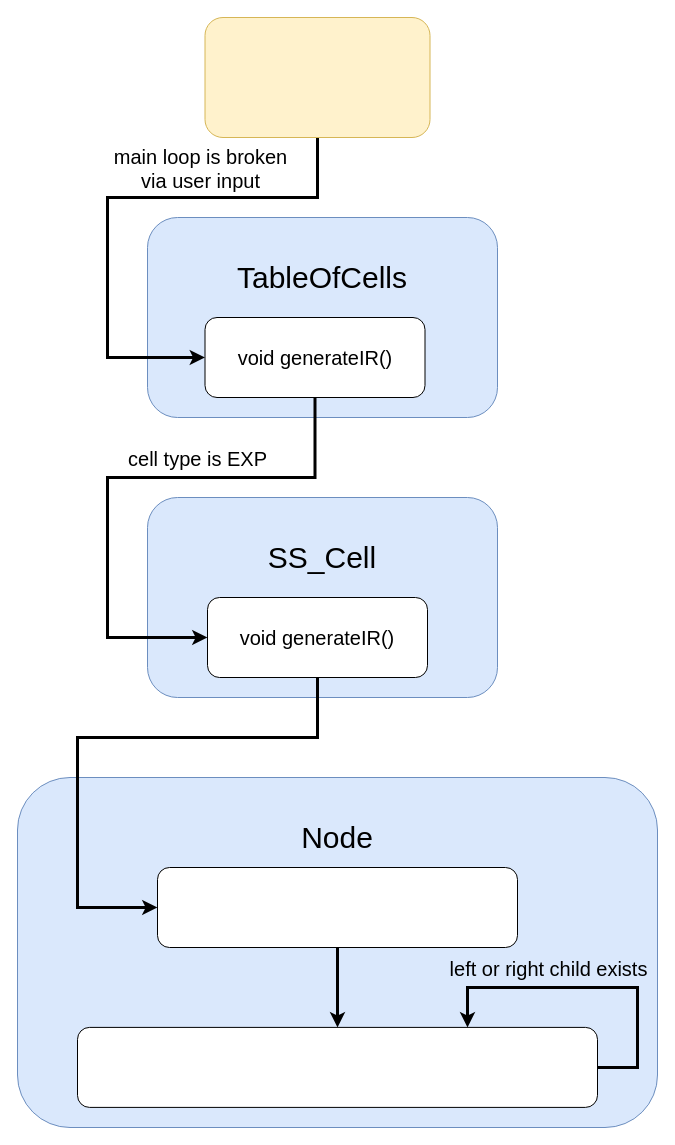
The diagram is 675 pixels wide and 1145 high, and some of its shapes have lost their labels. The shapes that lost their labels are listed below. From the top down, each one's centre as x and y in pixels, then its label:
[317,77]: Driver
[337,907]: LLVM Value codeGen(SS_Cell cell)
[337,1066]: void walkCodeGen(TableOfCells TOC, SS_Cell cell)
